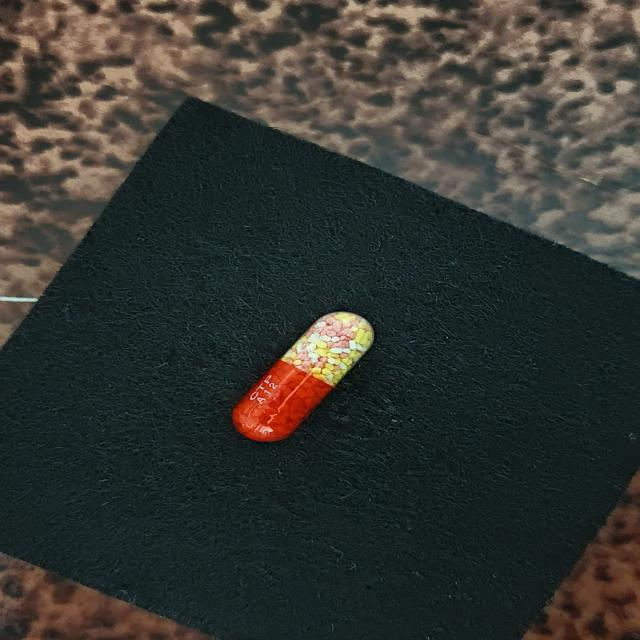Intact Capsule: (232, 312, 374, 441)
